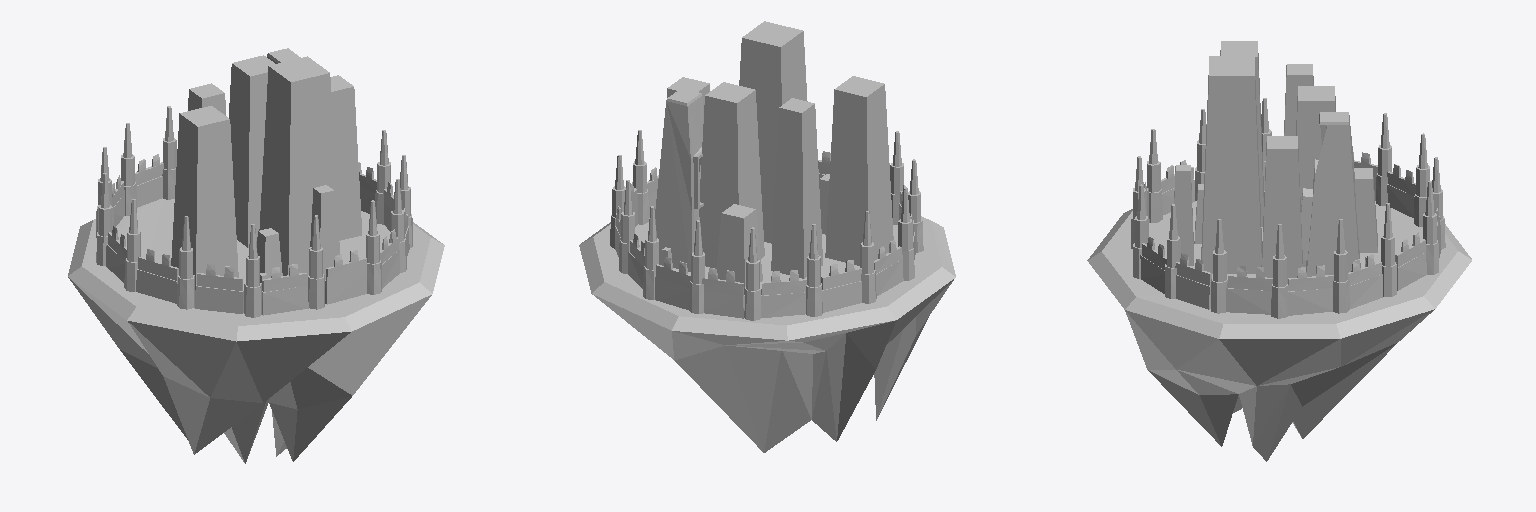
The model's file is Core.obj.
3 views of the same model, side by side, from view 1: azimuth 30°, elevation 25°; view 2: azimuth 150°, elevation 25°; view 3: azimuth 270°, elevation 25° (orthographic).
Parts seen in each view (by area): view 1: piso.001_Icosphere.001; view 2: piso.001_Icosphere.001; view 3: piso.001_Icosphere.001.
Part boxes in pixels (x1,y1,x2,y2): piso.001_Icosphere.001: (68,48,444,463); piso.001_Icosphere.001: (579,21,955,452); piso.001_Icosphere.001: (1087,41,1471,461).
Size of the model in its own units: 9.56 by 11.48 by 10.06.